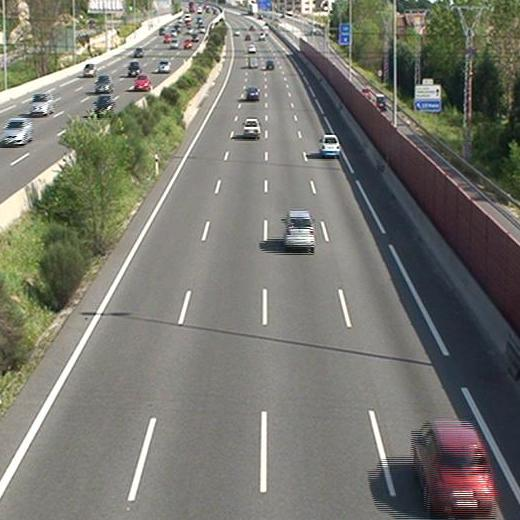car: (413, 423, 495, 520), (284, 210, 316, 247), (319, 133, 340, 156), (243, 119, 261, 139), (247, 87, 258, 100), (266, 60, 275, 70), (247, 45, 256, 53)
